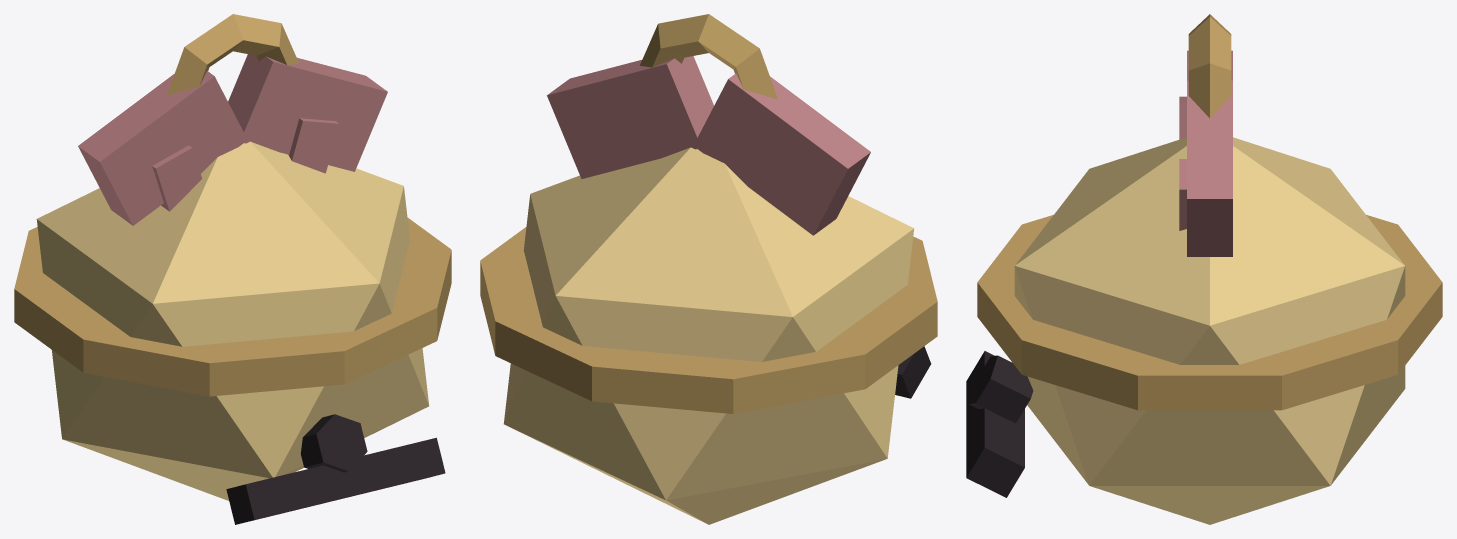
File: sb_jingle_bell.glb
The picture shows the model from 3 angles, left to right: view 1: azimuth 30°, elevation 25°; view 2: azimuth 150°, elevation 25°; view 3: azimuth 270°, elevation 25°; orthographic projection. The views are drawn at different scales.
Visible parts, largest first — view 1: jingle_bell; view 2: jingle_bell; view 3: jingle_bell.
Part boxes in pixels (left/top/right/bottom): jingle_bell: left=14, top=14, right=451, bottom=524; jingle_bell: left=480, top=14, right=937, bottom=524; jingle_bell: left=966, top=14, right=1442, bottom=524.
Bounding box in the file's own units: 0.3903 × 0.4948 × 0.4201.
